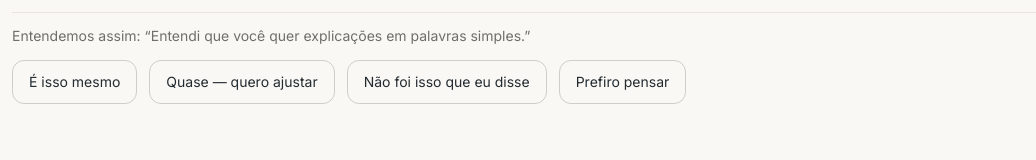
Test: C8/C9 · cada retorno da RPC tem a própria frase › ESTADO_INVALIDO chega à tela com a frase específica, nunca a genérica
Click the button "É isso mesmo".
click(75, 82)  # box [12,60,137,104]
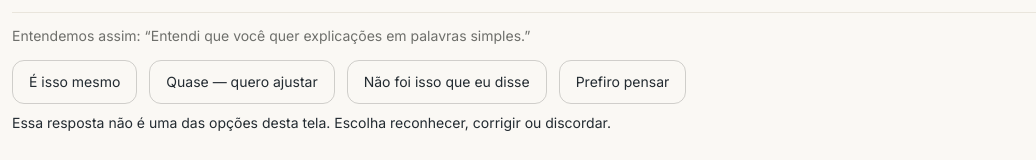
Expected: the message shows "Essa resposta não é uma das opções desta tela. Escolha reconhecer, corrigir ou discordar.", [12,114,611,131]
